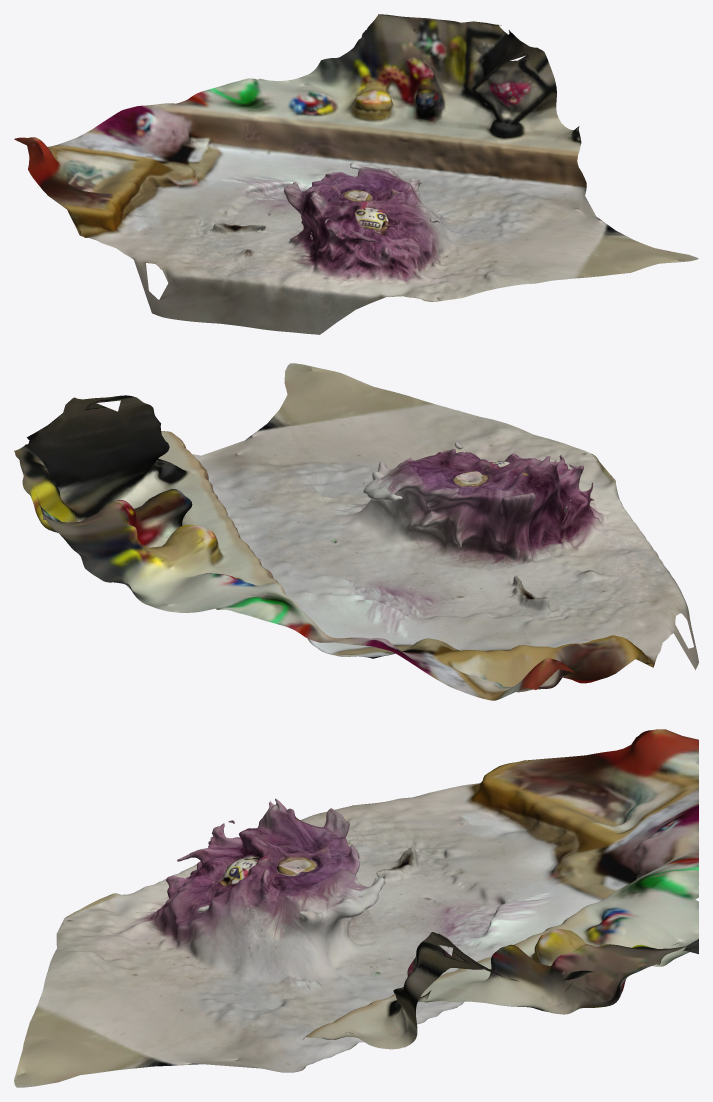
The picture shows the model from 3 angles, top to bottom: view 1: azimuth 30°, elevation 25°; view 2: azimuth 150°, elevation 25°; view 3: azimuth 270°, elevation 25°; orthographic projection. The views are drawn at different scales.
Bounding box in the file's own units: 3.68 × 1.02 × 3.54.
Materials: 1 (1 with a texture image).
